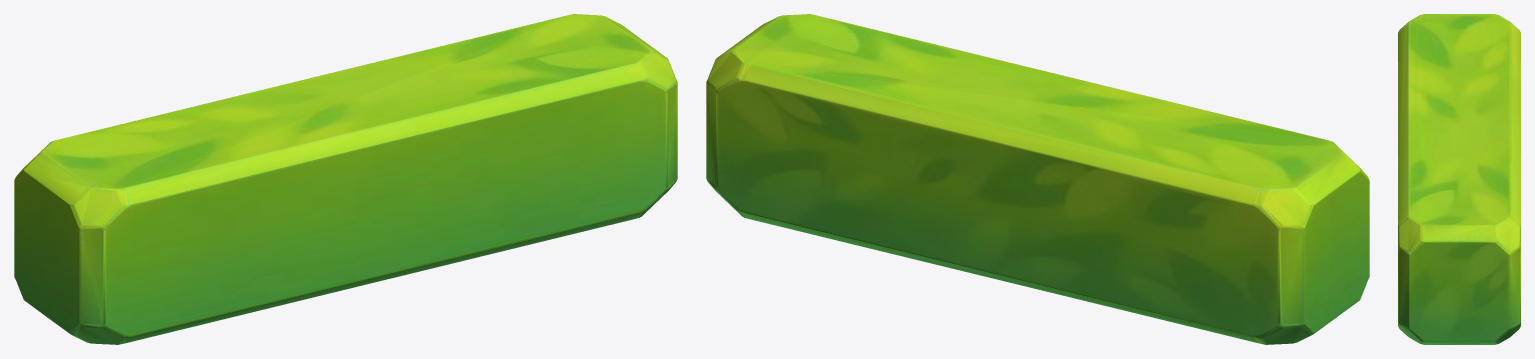
Rendered from hedge.glb.
3 renders of one model, left to right at view 1: azimuth 30°, elevation 25°; view 2: azimuth 150°, elevation 25°; view 3: azimuth 270°, elevation 25°, orthographic. The views are drawn at different scales.
Visible parts, largest first — view 1: tripo_node_da1b2b03-0054-4c07-8e20-52a12e6d63fa; view 2: tripo_node_da1b2b03-0054-4c07-8e20-52a12e6d63fa; view 3: tripo_node_da1b2b03-0054-4c07-8e20-52a12e6d63fa.
Boxes of the visible parts, box(x1,y1,x2,y2) form: tripo_node_da1b2b03-0054-4c07-8e20-52a12e6d63fa: box(14, 14, 677, 344); tripo_node_da1b2b03-0054-4c07-8e20-52a12e6d63fa: box(706, 14, 1369, 344); tripo_node_da1b2b03-0054-4c07-8e20-52a12e6d63fa: box(1398, 14, 1520, 344).
Size of the model in its own units: 32 by 7.95 by 7.4.
1 material, 1 textured.
